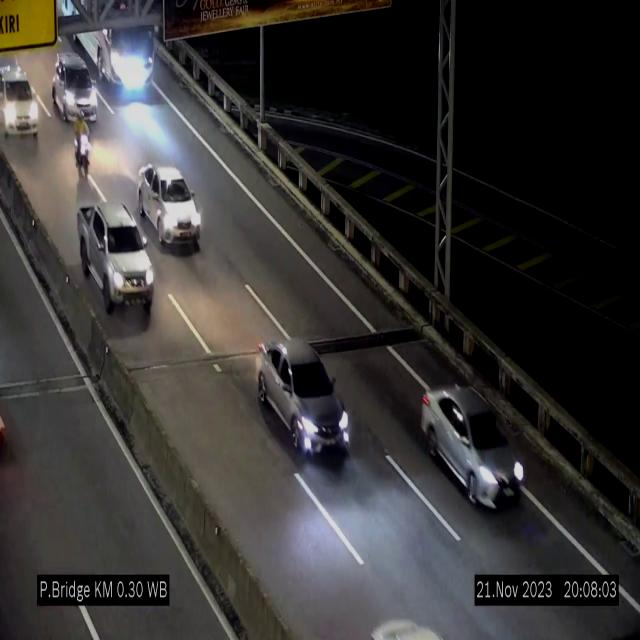Car: (420, 385, 526, 507), (258, 342, 350, 461), (64, 0, 158, 94), (78, 203, 154, 317), (138, 166, 202, 248), (0, 63, 44, 149), (52, 54, 98, 122)
Motorcycle: (72, 106, 96, 180)
